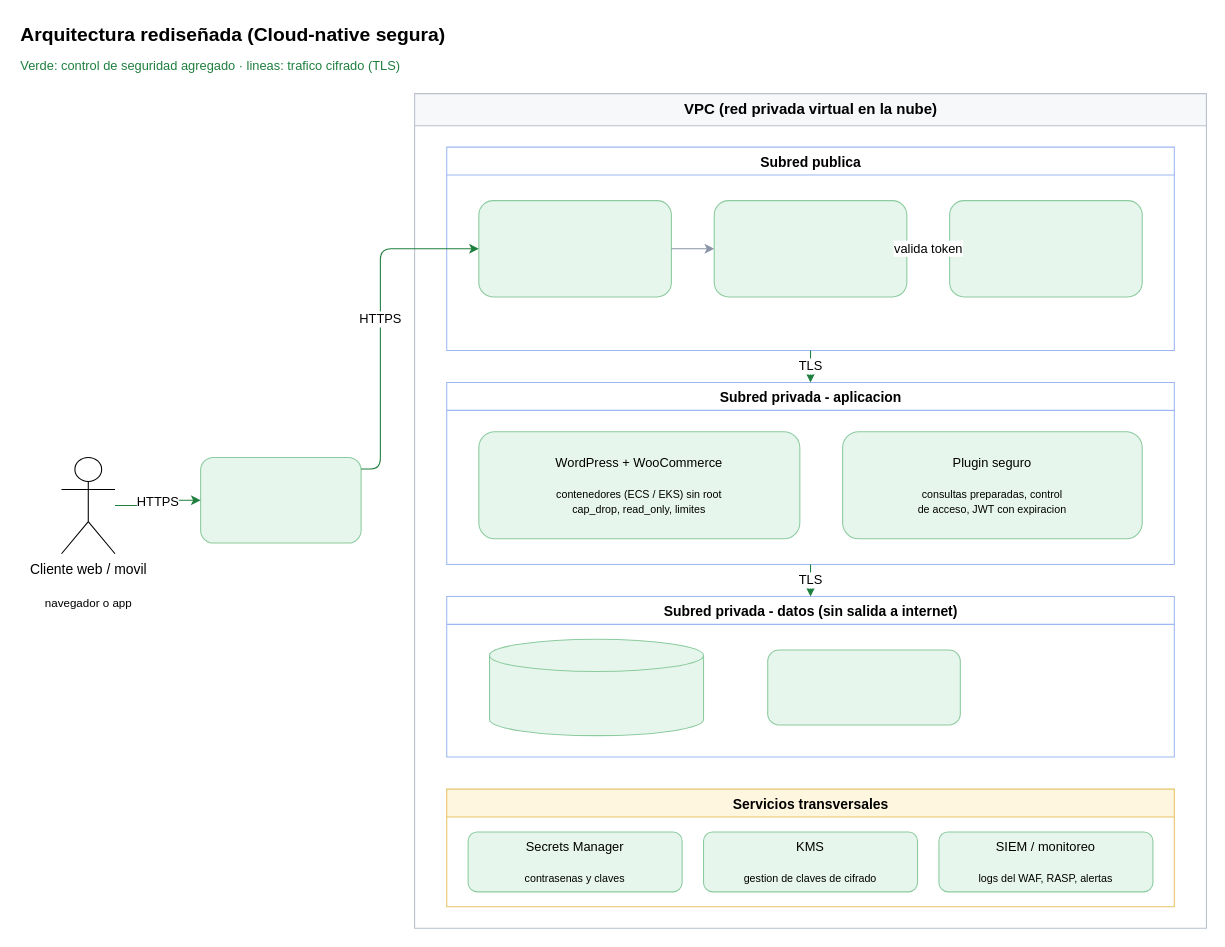
The diagram is 1225 pixels wide and 947 high, and some of its shapes have lost their labels. The shapes that lost their labels are listed below. From the top down, each one's centre as x and y in pixels, then its label:
At point 574,248: "WAF ModSecurity + OWASP CRS bloquea OWASP Top 10".
At point 810,248: "API Gateway rate limiting, validacion".
At point 1045,248: "Servicio de identidad Cognito / Auth0 OAuth2, JWT, MFA".
At point 280,499: "CDN CloudFront / Cloudflare TLS, cache, anti-DDoS".
At point 596,687: "Base de datos administrada RDS MySQL · cifrado en reposo (KMS)".
At point 863,687: "Respaldos cifrados snapshots automaticos".
